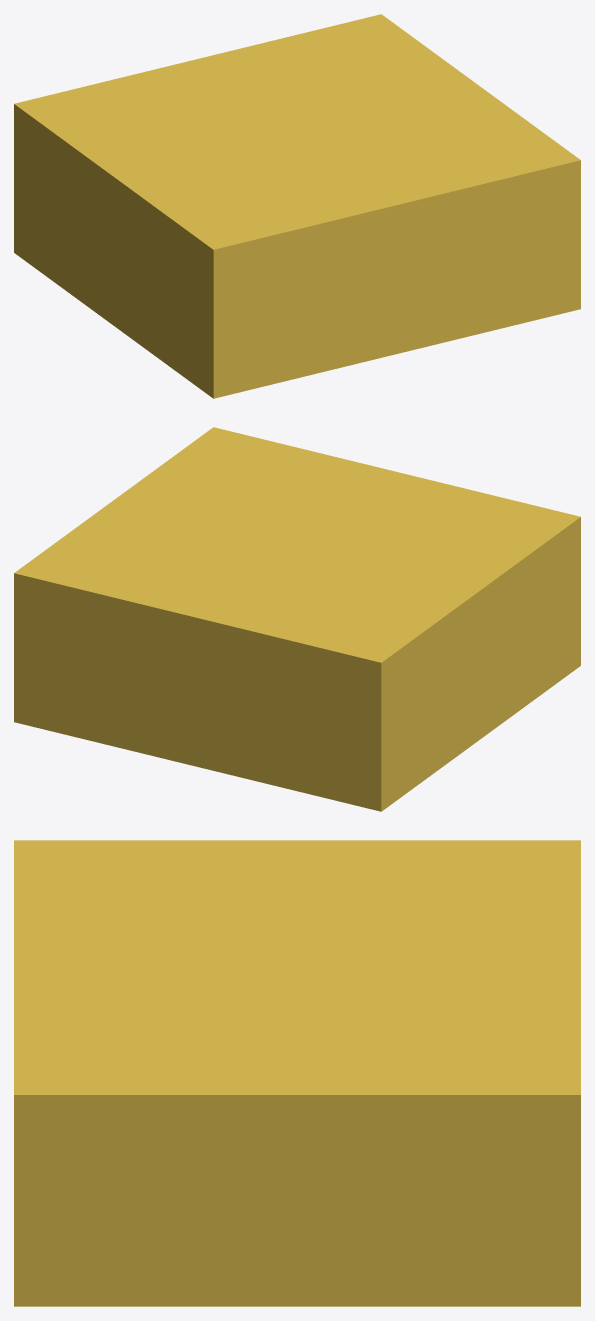
File: lab por dentro.fbx
3 renders of one model, top to bottom at view 1: azimuth 30°, elevation 25°; view 2: azimuth 150°, elevation 25°; view 3: azimuth 270°, elevation 25°, orthographic. The views are drawn at different scales.
Visible parts, largest first — view 1: lab por dentro.002; view 2: lab por dentro.002; view 3: lab por dentro.002.
Part boxes in pixels (box(x1,y1,x2,y2)): lab por dentro.002: box(14, 14, 580, 398); lab por dentro.002: box(14, 427, 580, 811); lab por dentro.002: box(14, 840, 580, 1306).
Bounding box in the file's own units: 6578 × 2634 × 6187.
